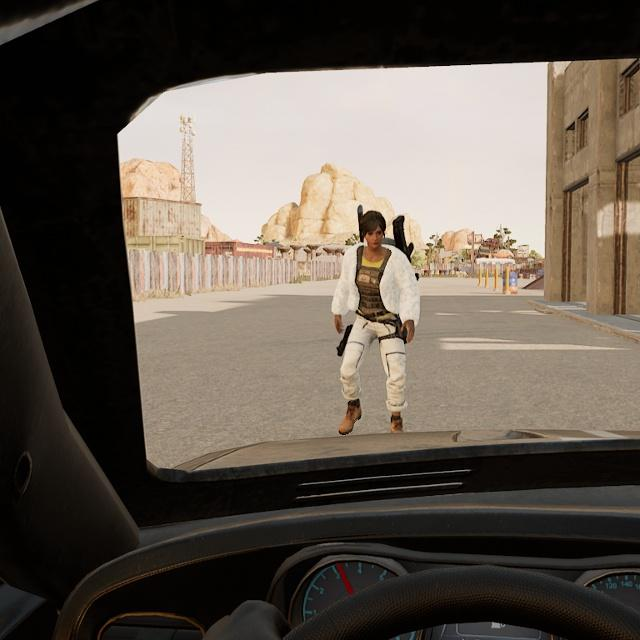head: (356, 205, 391, 253)
people: (332, 201, 419, 437)
